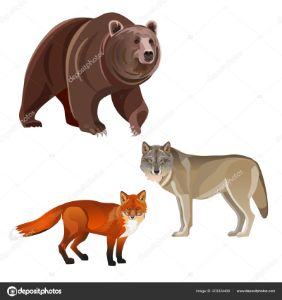bear: (14, 9, 165, 138)
fox: (11, 184, 148, 266)
wolf: (144, 140, 270, 239)
